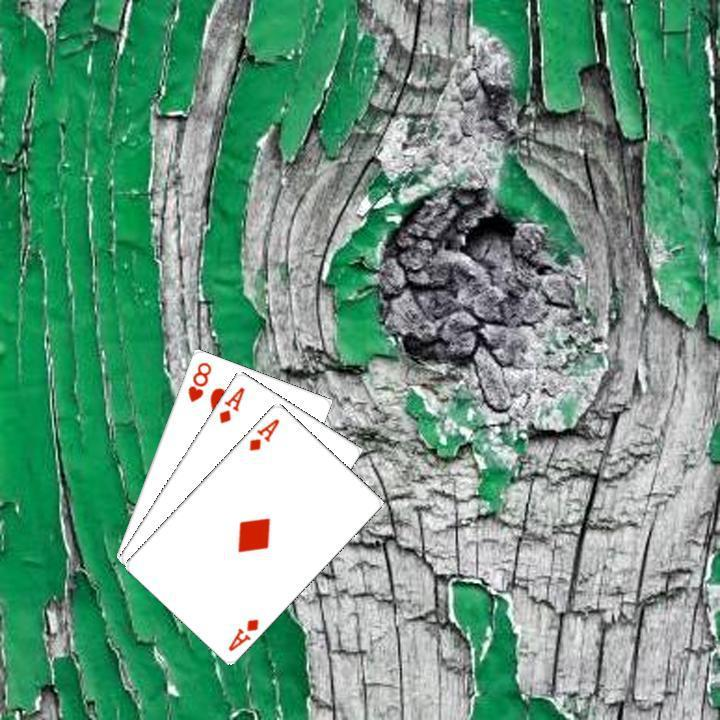8: (183, 357, 213, 404)
A: (244, 414, 282, 453), (224, 614, 261, 653), (214, 382, 247, 425)
